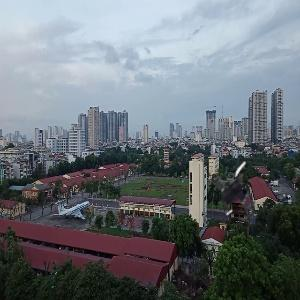drone: (204, 152, 277, 225)
